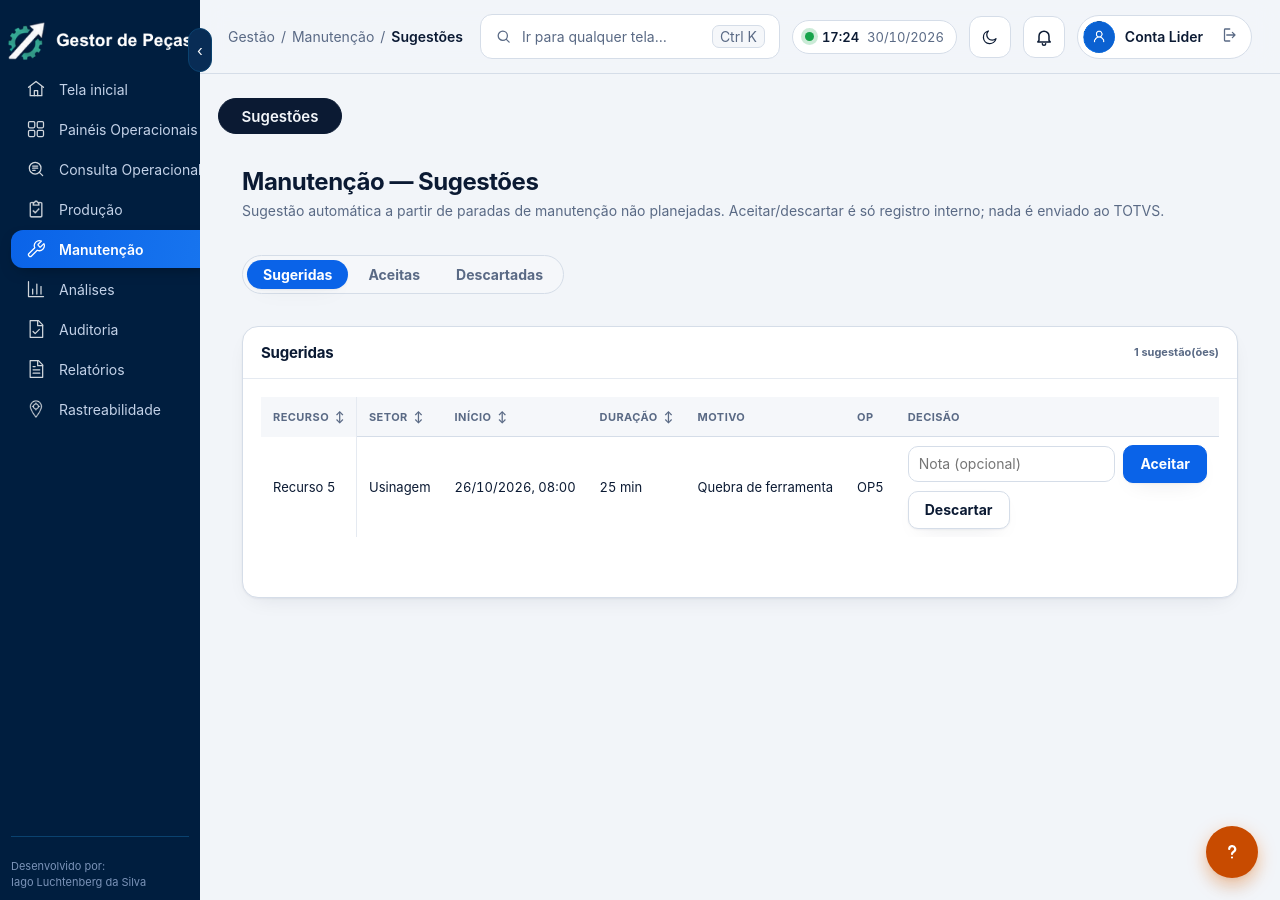
Scenario: Manutenção — sugestões de paradas › 409 mostra 'Já decidida por X' e recarrega a lista
This screenshot has width=1280, height=900.
Check: the text "Recurso 5" is shown, box x1=261 y1=437 x2=357 y2=537
Click the button "Aceitar" at (1165, 464), box x1=1124 y1=445 x2=1207 y2=483
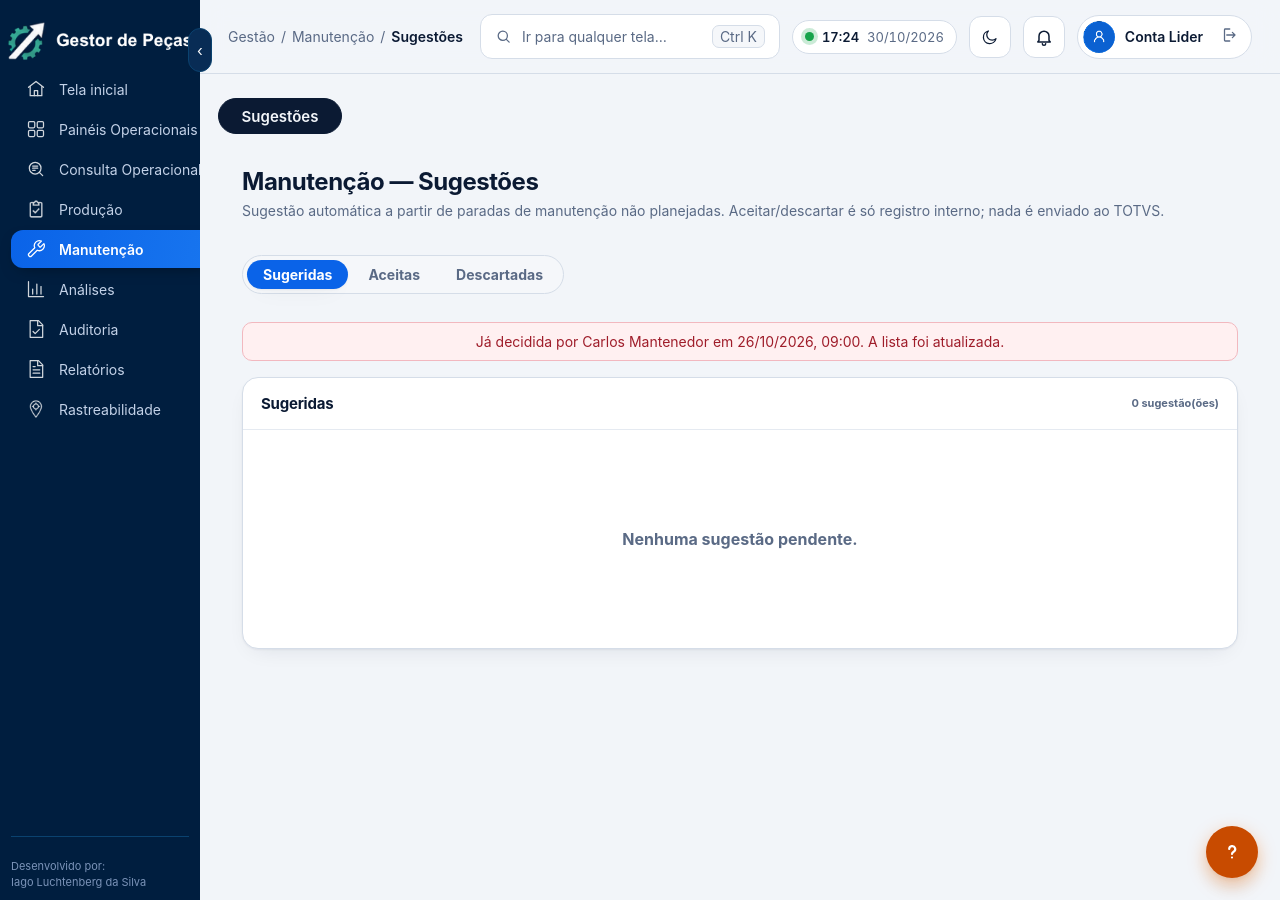
Check: the text "Já decidida por Carlos Mantenedor" is shown, box x1=476 y1=333 x2=1004 y2=350
Check: the text "Recurso 5" is gone
